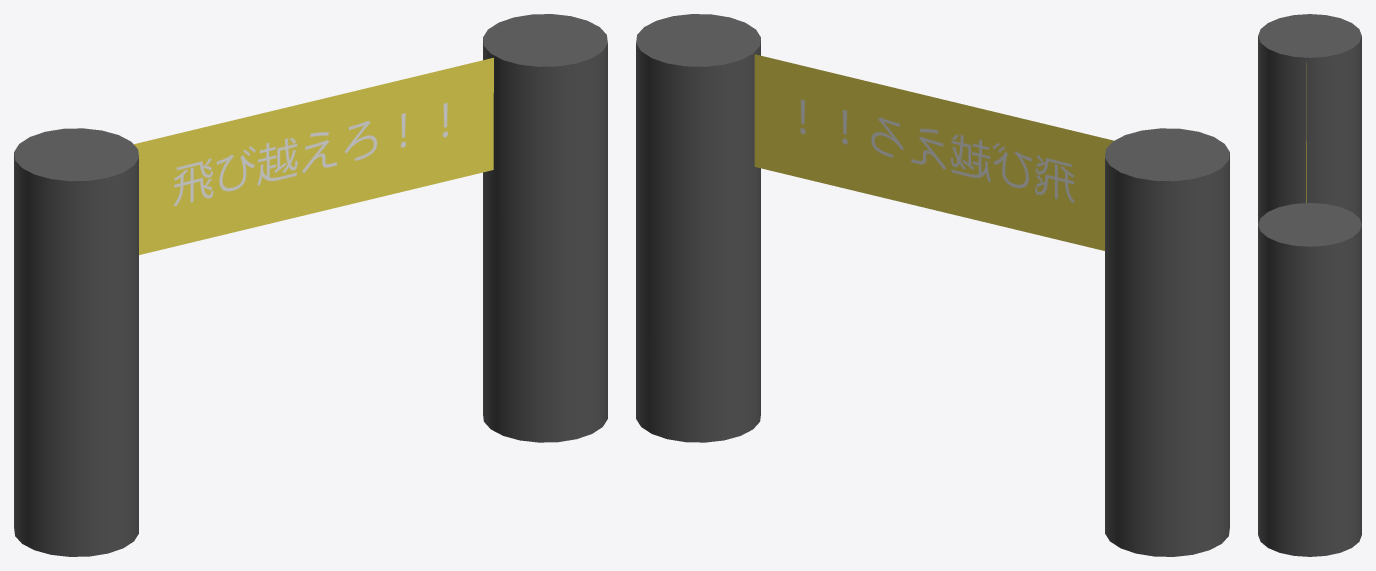
The model's file is pole.fbx.
3 renders of one model, left to right at view 1: azimuth 30°, elevation 25°; view 2: azimuth 150°, elevation 25°; view 3: azimuth 270°, elevation 25°, orthographic. The views are drawn at different scales.
Parts seen in each view (by area): view 1: pCylinder2, pCylinder1, pPlane1; view 2: pCylinder2, pCylinder1, pPlane1; view 3: pCylinder1, pCylinder2.
Boxes of the visible parts, bbox=[...] form: pCylinder2: bbox=[14, 128, 138, 556]; pCylinder1: bbox=[483, 14, 607, 442]; pPlane1: bbox=[134, 57, 493, 254]; pCylinder2: bbox=[1105, 128, 1229, 556]; pCylinder1: bbox=[636, 14, 760, 442]; pPlane1: bbox=[754, 54, 1113, 250]; pCylinder1: bbox=[1258, 203, 1361, 556]; pCylinder2: bbox=[1258, 14, 1361, 224].
Size of the model in its own units: 0.8119 by 0.5046 by 0.1531.
Materials: 2 (1 with a texture image).
